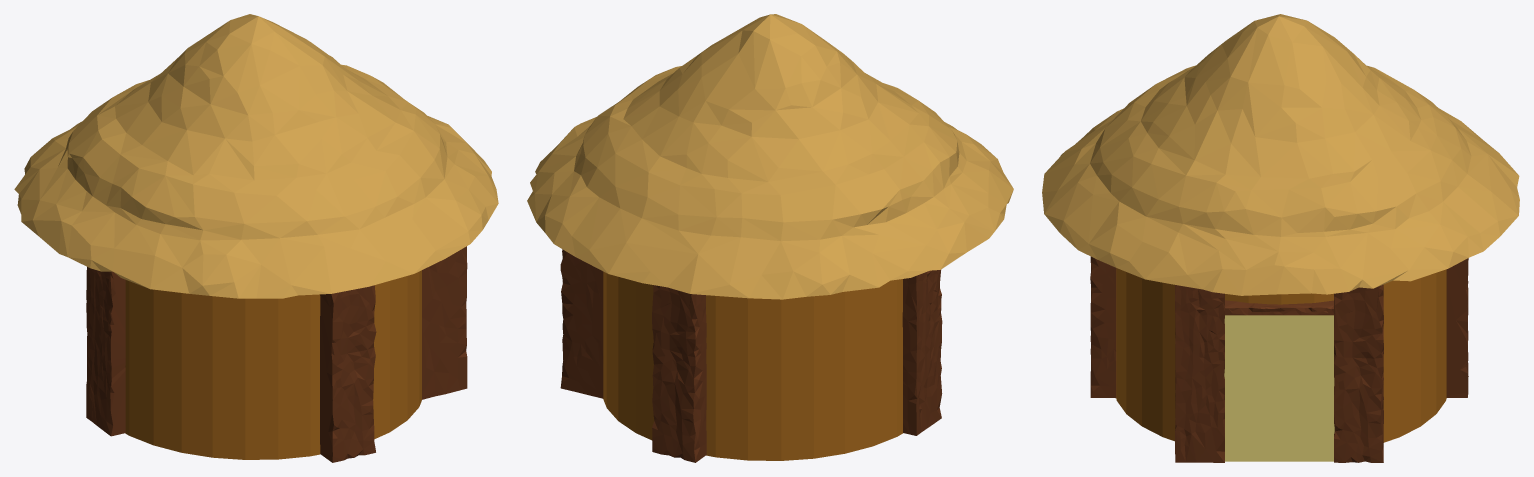
The model's file is Hut.fbx.
3 views of the same model, side by side, from view 1: azimuth 30°, elevation 25°; view 2: azimuth 150°, elevation 25°; view 3: azimuth 270°, elevation 25° (orthographic).
Parts seen in each view (by area): view 1: Roof, walls, Pillars; view 2: Roof, walls, Pillars; view 3: Roof, Pillars, walls, Door cloth.
Part boxes in pixels (box(x1,y1,x2,y2)): Roof: box(14, 14, 498, 298); walls: box(125, 270, 421, 459); Pillars: box(86, 246, 467, 462); Roof: box(527, 14, 1013, 299); walls: box(603, 271, 903, 460); Pillars: box(560, 249, 942, 462); Roof: box(1042, 14, 1519, 295); Pillars: box(1090, 256, 1468, 462); walls: box(1116, 268, 1446, 442); Door cloth: box(1224, 315, 1334, 461).
Size of the model in its own units: 289 by 248 by 289.
